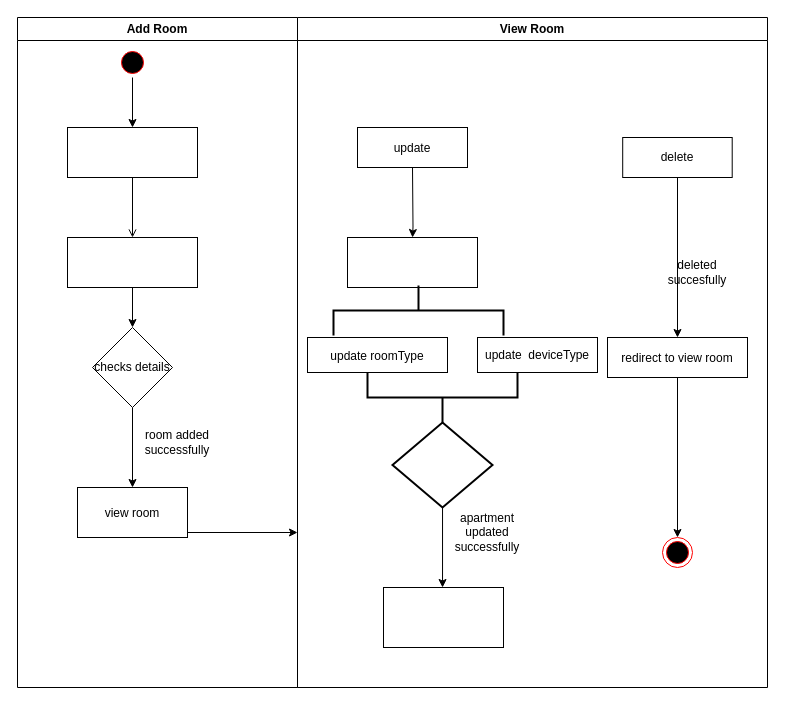
The diagram is 785 pixels wide and 705 high, and some of its shapes have lost their labels. The shapes that lost their labels are listed below. From the top down, each one's box as (x1, y1, x2, y2) in pixels, then its label:
(66, 126, 198, 178): add roomType
(66, 236, 198, 288): add deviceType
(346, 236, 478, 288): display update form
(391, 421, 493, 508): details updated?
(382, 586, 504, 648): redirect back to view room page
